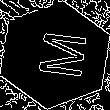M_W: (25, 28, 85, 82)
